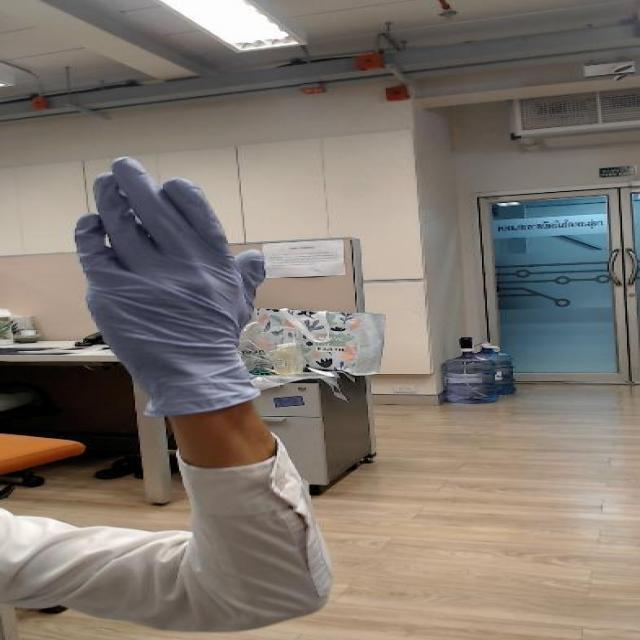Glove: (66, 150, 269, 409)
